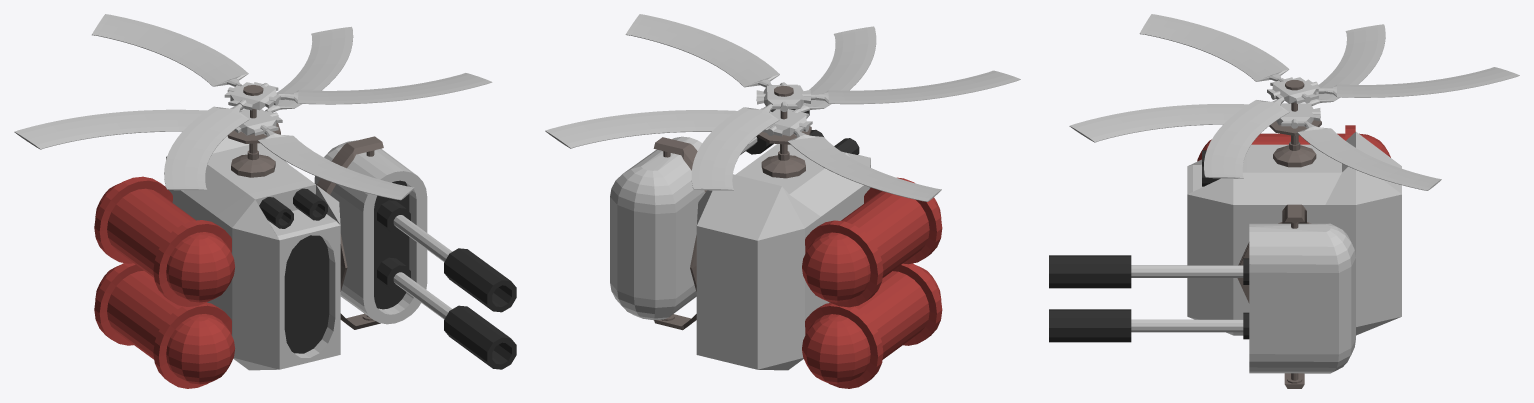
Rendered from flying turret.fbx.
The picture shows the model from 3 angles, left to right: view 1: azimuth 30°, elevation 25°; view 2: azimuth 150°, elevation 25°; view 3: azimuth 270°, elevation 25°; orthographic projection. The views are drawn at different scales.
Parts seen in each view (by area): view 1: body, gun, propeller2, Fueltank1, propeller1, fueltank2, SpinnyThing; view 2: body, gun, propeller2, propeller1, Fueltank1, fueltank2, SpinnyThing; view 3: gun, body, propeller2, propeller1, SpinnyThing, Fueltank1.
Boxes of the visible parts, box(x1,y1,x2,y2) form: body: box(166, 85, 340, 370); gun: box(314, 140, 516, 369); propeller2: box(92, 14, 492, 190); Fueltank1: box(94, 176, 234, 306); propeller1: box(14, 26, 414, 200); fueltank2: box(94, 263, 235, 388); SpinnyThing: box(316, 136, 383, 329); body: box(696, 85, 870, 370); gun: box(610, 106, 809, 320); propeller2: box(625, 14, 1020, 190); propeller1: box(545, 26, 941, 201); Fueltank1: box(802, 177, 942, 307); fueltank2: box(802, 263, 942, 388); SpinnyThing: box(653, 137, 706, 330); gun: box(1049, 223, 1355, 373); body: box(1187, 80, 1401, 335); propeller2: box(1139, 14, 1519, 178); propeller1: box(1069, 24, 1441, 190); SpinnyThing: box(1237, 204, 1311, 388); Fueltank1: box(1197, 125, 1390, 161).
Size of the model in its own units: 184 by 120 by 207.
